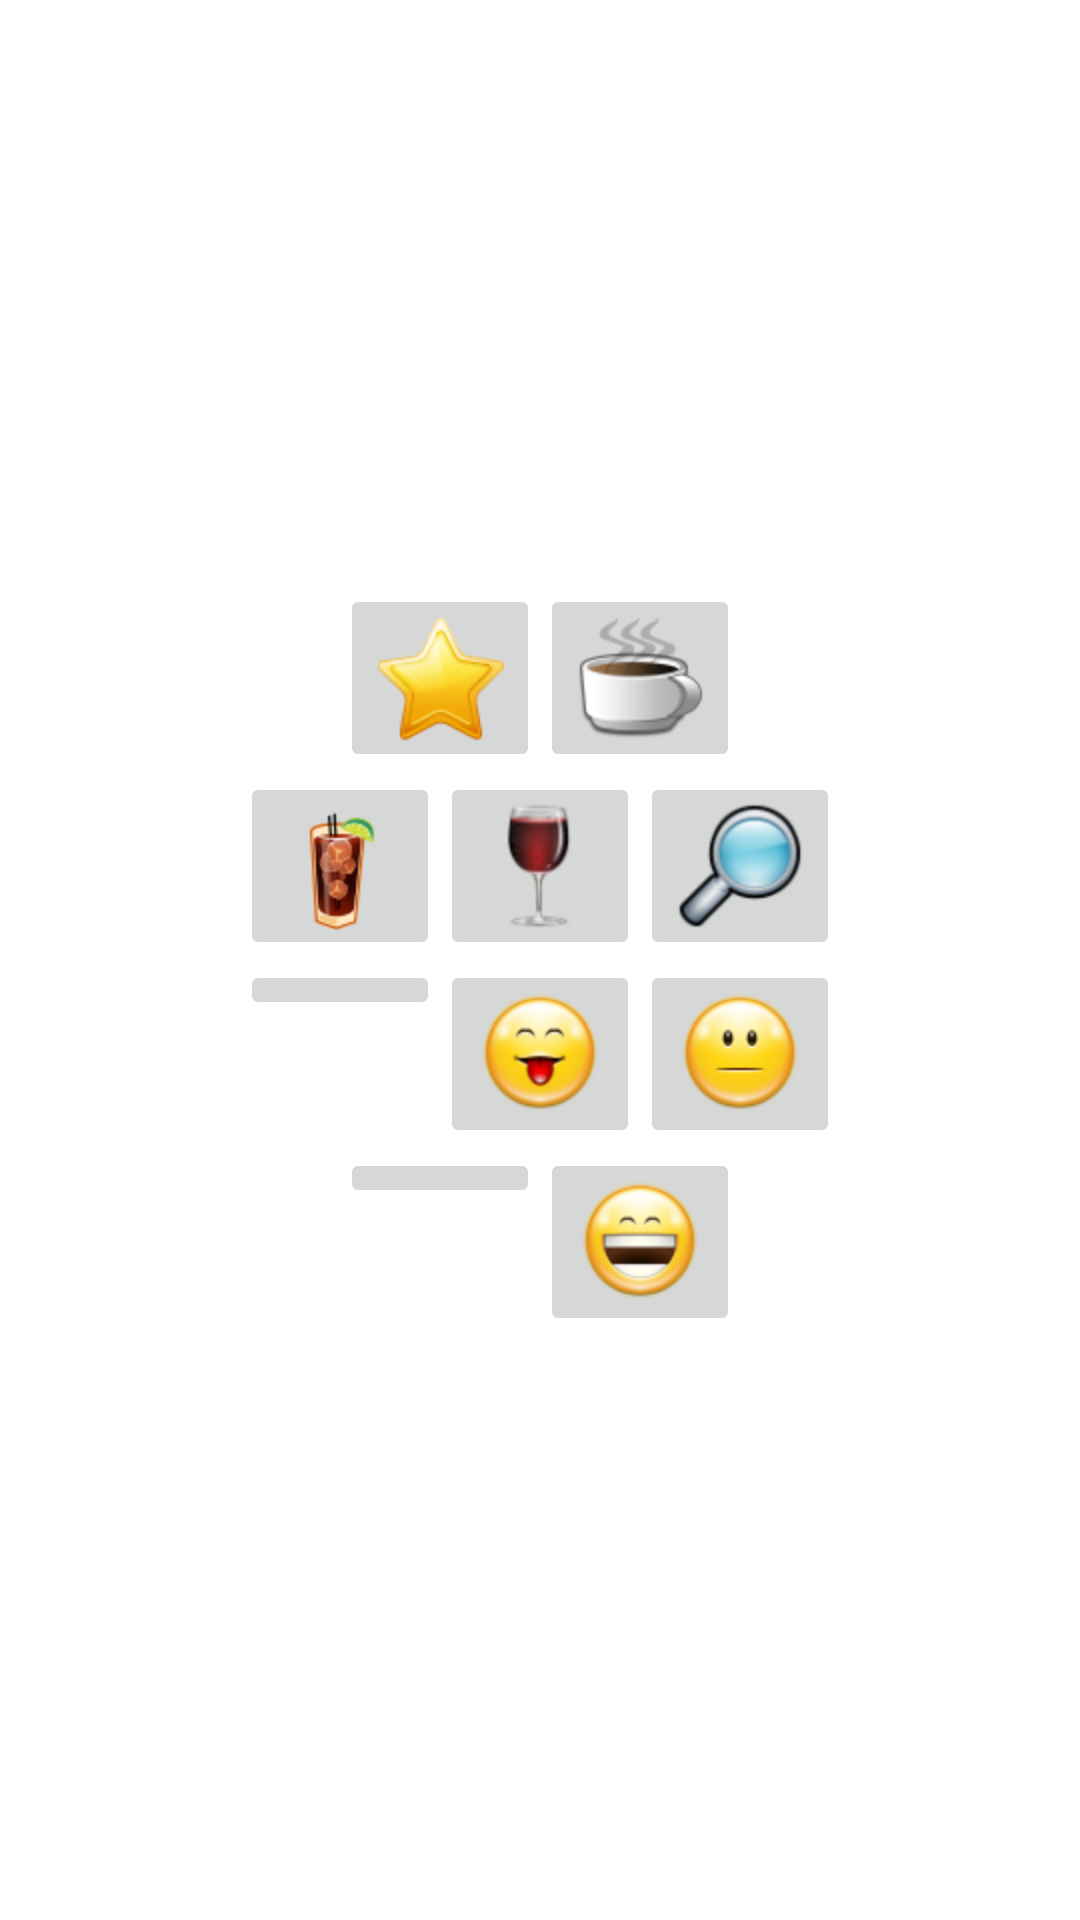

Locate icon controls on the screen. Image size 1080 × 1920, boxes as (x1, y1, x2, y2).
cafe: (552, 602, 728, 754)
drink: (252, 790, 428, 942)
search: (652, 790, 828, 942)
smile lick: (452, 978, 628, 1130)
smile neutral: (652, 978, 828, 1130)
smile veryhappy: (552, 1166, 728, 1318)
star: (352, 602, 528, 754)
wine: (452, 790, 628, 942)
